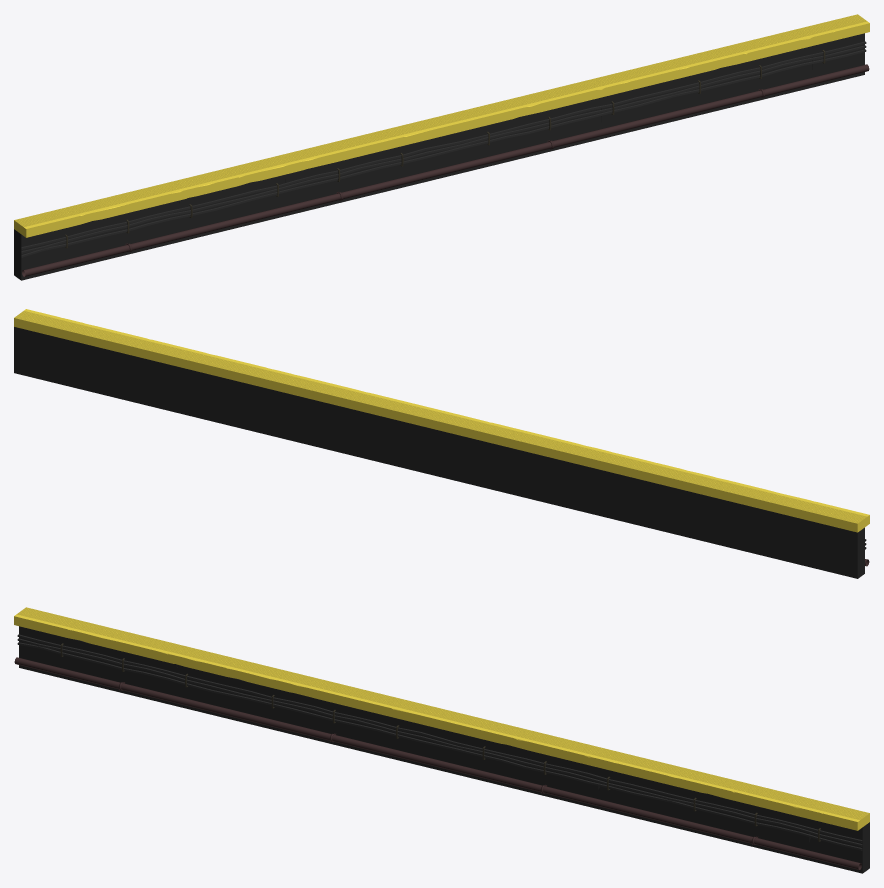
Rendered from SW_ENV_PlatformEdge_A_20m_FF.fbx.
3 views of the same model, one above another, from view 1: azimuth 30°, elevation 25°; view 2: azimuth 150°, elevation 25°; view 3: azimuth 330°, elevation 25° (orthographic).
Parts seen in each view (by area): view 1: SW_ENV_PlatformEdge_A_20m_FF; view 2: SW_ENV_PlatformEdge_A_20m_FF; view 3: SW_ENV_PlatformEdge_A_20m_FF.
Boxes of the visible parts, <box> form: SW_ENV_PlatformEdge_A_20m_FF: <box>14,14,869,280</box>; SW_ENV_PlatformEdge_A_20m_FF: <box>14,309,869,578</box>; SW_ENV_PlatformEdge_A_20m_FF: <box>14,607,869,873</box>.
Size of the model in its own units: 20 by 1.25 by 0.5.
